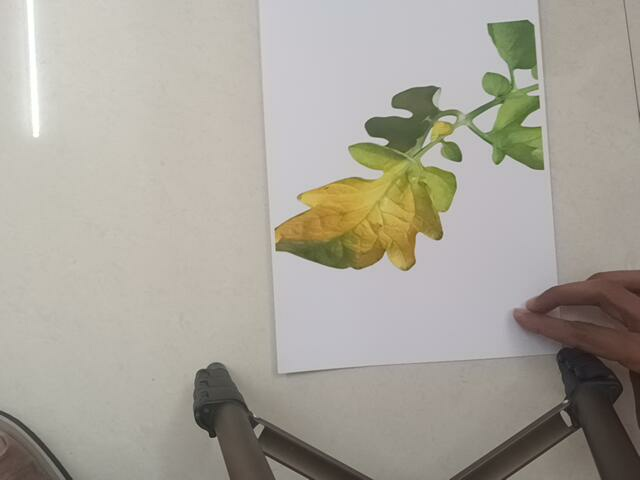Tomamto_Yellow_Disease: (277, 20, 565, 272)
